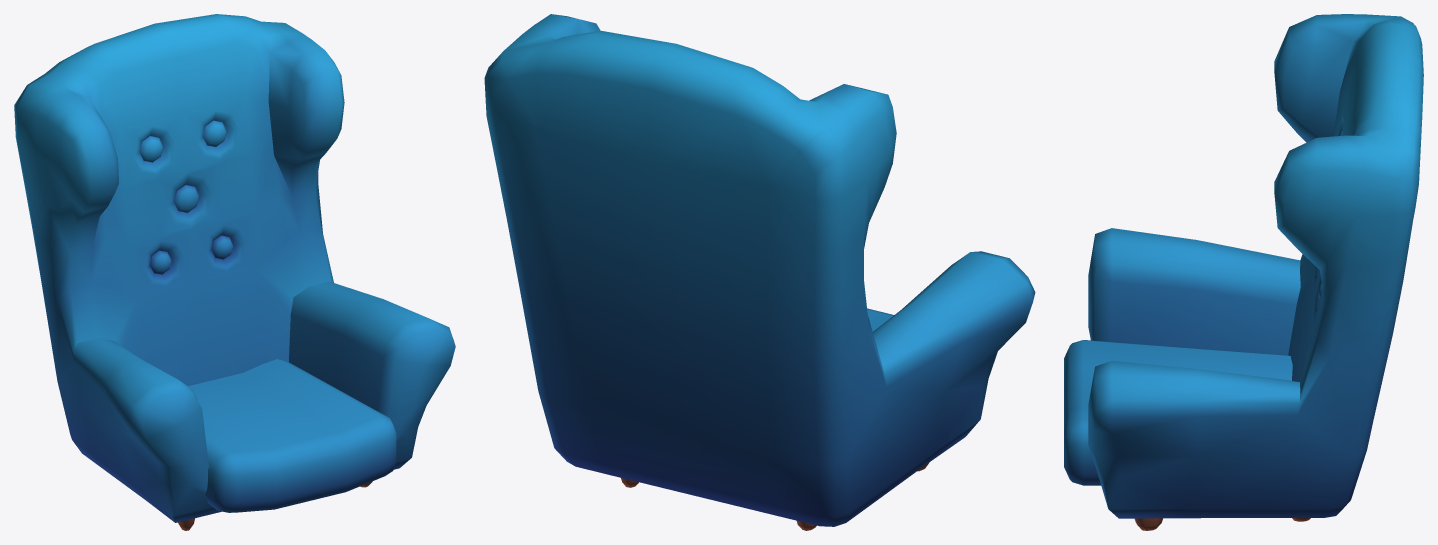
File: chair_large_blue.glb
3 renders of one model, left to right at view 1: azimuth 30°, elevation 25°; view 2: azimuth 150°, elevation 25°; view 3: azimuth 270°, elevation 25°, orthographic. The views are drawn at different scales.
Parts seen in each view (by area): view 1: chair_large_blue; view 2: chair_large_blue; view 3: chair_large_blue.
Part boxes in pixels (bbox=[...]): chair_large_blue: bbox=[14, 14, 455, 530]; chair_large_blue: bbox=[484, 14, 1035, 530]; chair_large_blue: bbox=[1064, 14, 1423, 530].
Bounding box in the file's own units: 1.83 × 2.14 × 1.61.
Materials: 1 (1 with a texture image).
